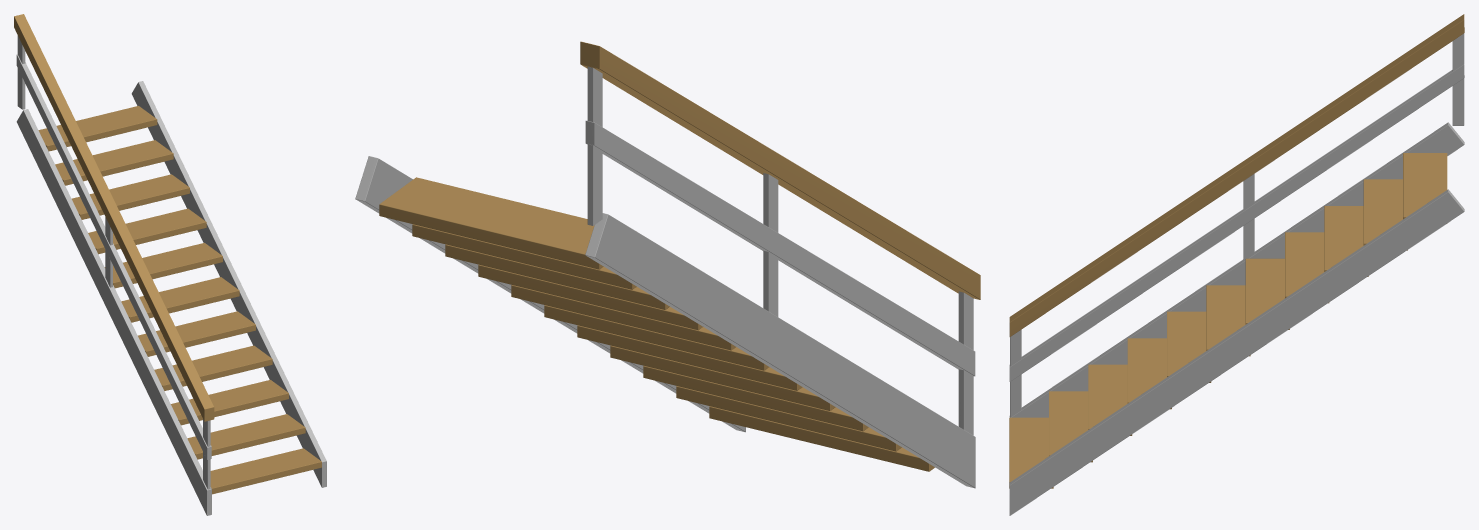
File: Stair_02.fbx
The picture shows the model from 3 angles, left to right: view 1: azimuth 30°, elevation 25°; view 2: azimuth 150°, elevation 25°; view 3: azimuth 270°, elevation 25°; orthographic projection. The views are drawn at different scales.
Visible parts, largest first — view 1: Steps, Step_Black, Stair_Rail1; view 2: Step_Black, Steps, Stair_Rail1; view 3: Step_Black, Steps, Stair_Rail1.
Part boxes in pixels (<box>): Steps: <box>38,106,321,494</box>; Step_Black: <box>16,35,326,515</box>; Stair_Rail1: <box>14,14,214,421</box>; Step_Black: <box>355,66,975,488</box>; Steps: <box>379,177,934,471</box>; Stair_Rail1: <box>580,41,980,299</box>; Step_Black: <box>1009,33,1464,515</box>; Steps: <box>1009,153,1447,488</box>; Stair_Rail1: <box>1009,14,1464,336</box>.
Size of the model in its own units: 148 by 417 by 399.
